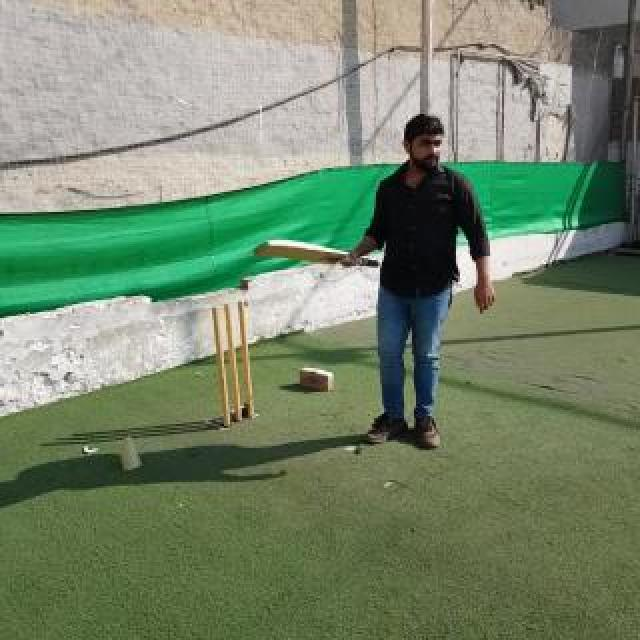bat: (252, 239, 382, 269)
